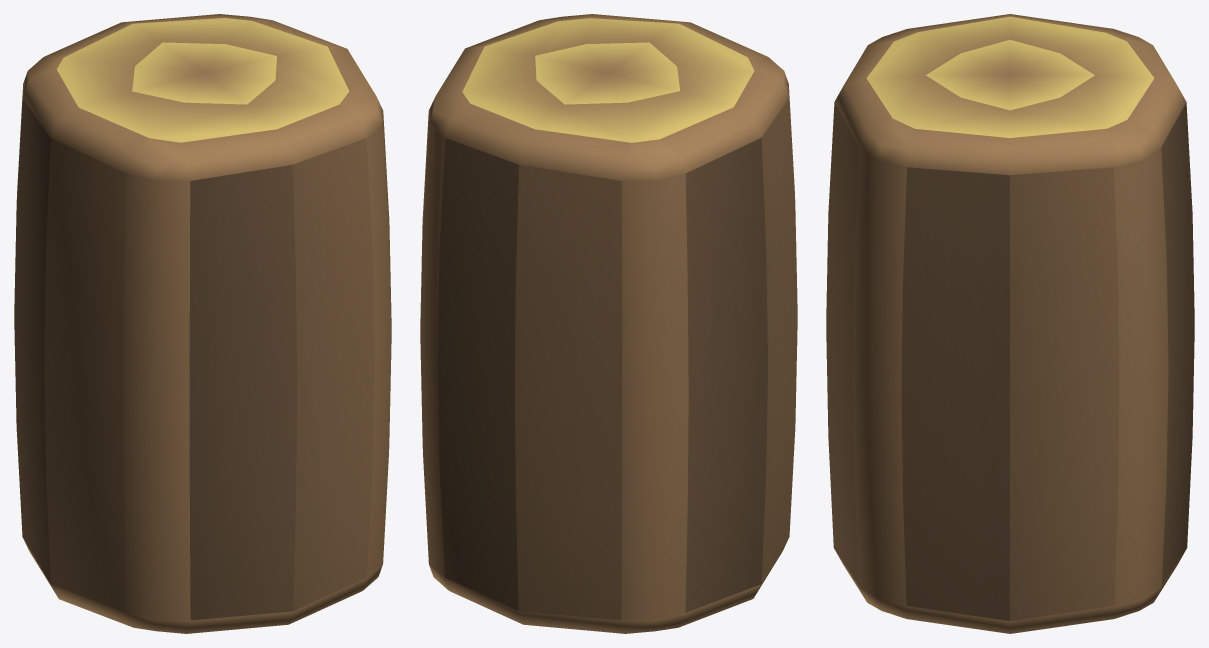
Rendered from banana_stamm_LOD_group.fbx.
3 views of the same model, side by side, from view 1: azimuth 30°, elevation 25°; view 2: azimuth 150°, elevation 25°; view 3: azimuth 270°, elevation 25° (orthographic).
Parts seen in each view (by area): view 1: banana_stamm_LOD0; view 2: banana_stamm_LOD0; view 3: banana_stamm_LOD0.
Part boxes in pixels (x1,y1,x2,y2): banana_stamm_LOD0: (14,14,391,633); banana_stamm_LOD0: (420,14,797,633); banana_stamm_LOD0: (826,14,1194,633).
Size of what is drawn, in the model's own units: 71.43 by 108 by 71.82.
Materials: 1 (1 with a texture image).
